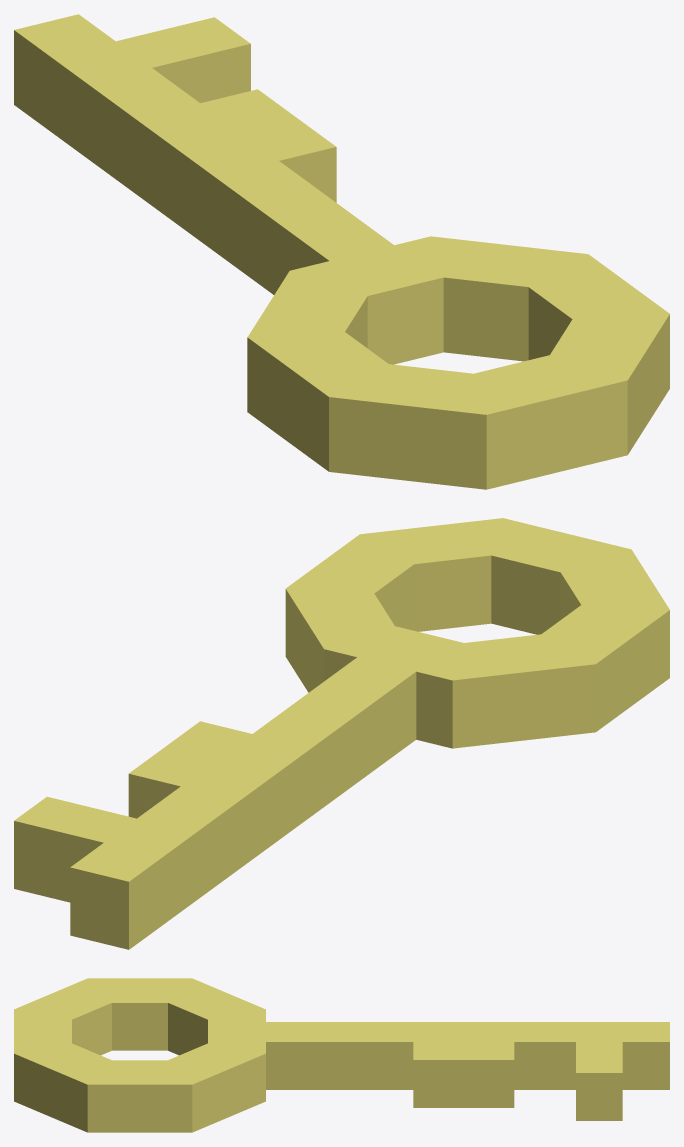
Rendered from Key.fbx.
The picture shows the model from 3 angles, top to bottom: view 1: azimuth 30°, elevation 25°; view 2: azimuth 150°, elevation 25°; view 3: azimuth 270°, elevation 25°; orthographic projection. The views are drawn at different scales.
Parts seen in each view (by area): view 1: Key; view 2: Key; view 3: Key.
Part boxes in pixels (<box>): Key: <box>14,14,669,489</box>; Key: <box>14,518,669,949</box>; Key: <box>14,978,669,1132</box>.
Bounding box in the file's own units: 25.99 × 5.45 × 67.66.
